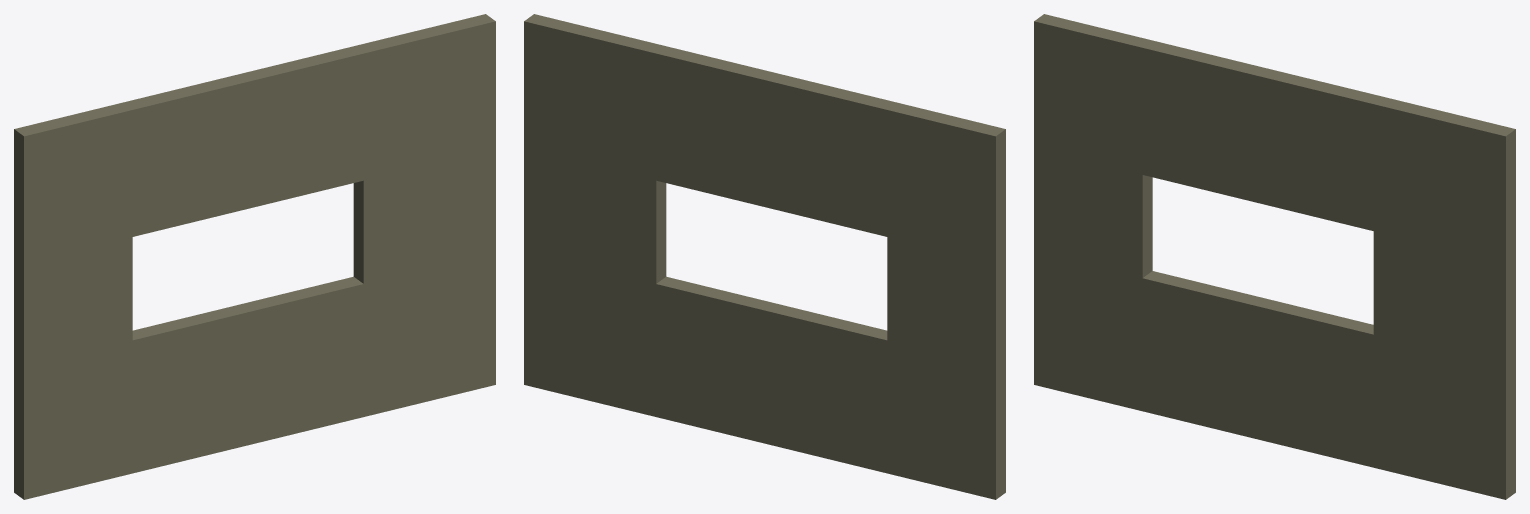
File: wallWindow2.fbx
3 views of the same model, side by side, from view 1: azimuth 30°, elevation 25°; view 2: azimuth 150°, elevation 25°; view 3: azimuth 330°, elevation 25° (orthographic).
Parts seen in each view (by area): view 1: wallWindow2; view 2: wallWindow2; view 3: wallWindow2.
Boxes of the visible parts, x1,y1,x2,y2 form: wallWindow2: (14, 14, 495, 499); wallWindow2: (524, 14, 1005, 499); wallWindow2: (1034, 14, 1515, 499).
Size of the model in its own units: 163 by 120 by 6.
